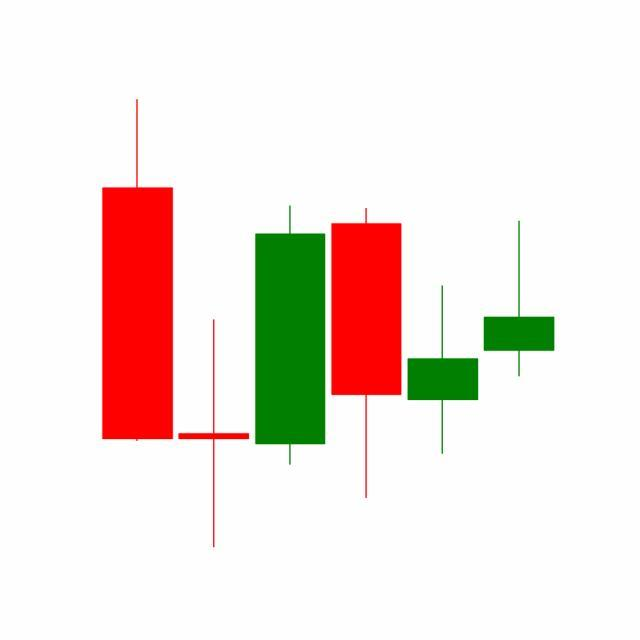Hikkake Pattern: (175, 201, 555, 548)
